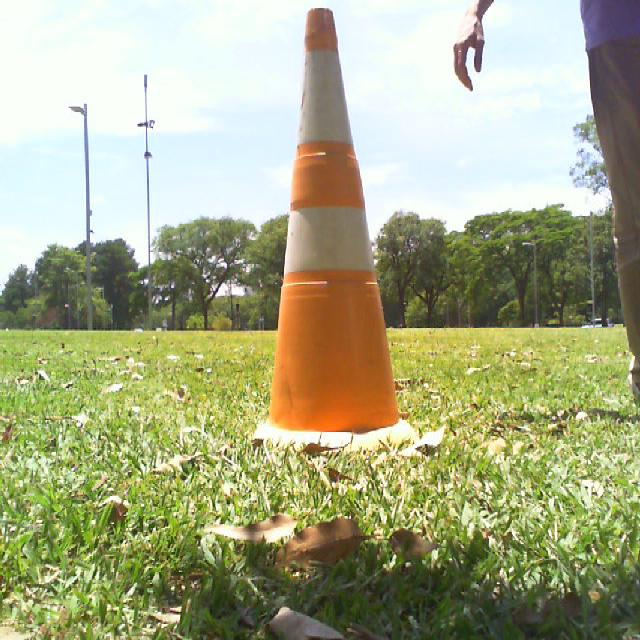cone: (244, 6, 418, 446)
